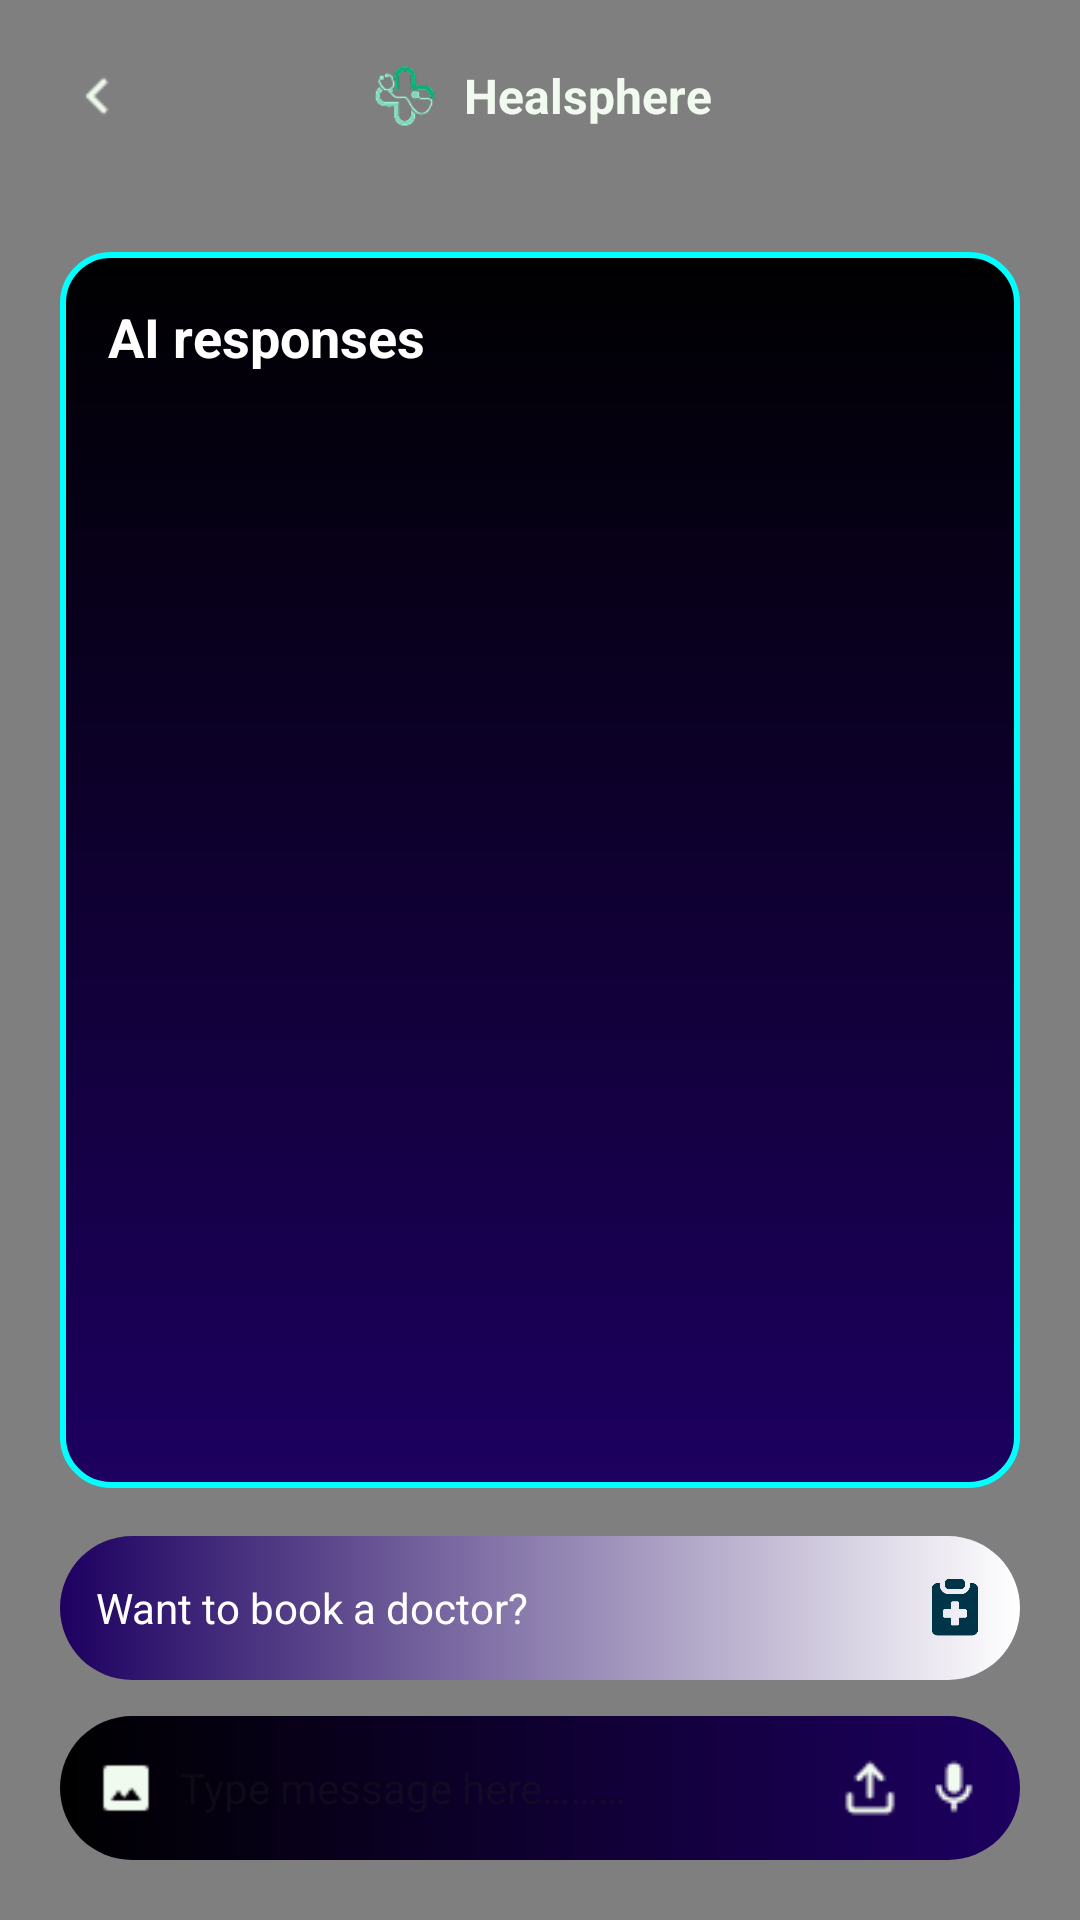

Icons on this 1080×1920 Android screen, each with the point to tap as point (x, y):
Back button: point (97, 96)
Gallery icon: point (126, 1788)
Microphone icon: point (954, 1787)
Upload file: point (870, 1788)
